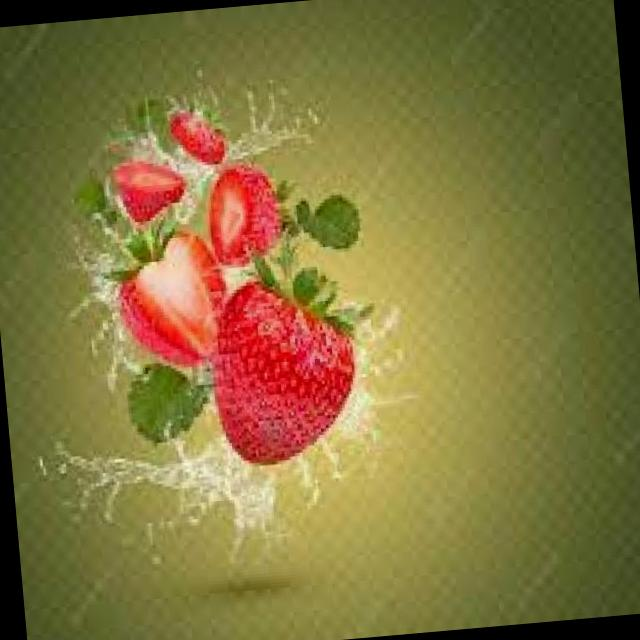Strawberry: (202, 264, 364, 470), (110, 224, 230, 372), (202, 158, 286, 270), (106, 154, 189, 230), (164, 102, 228, 168)
